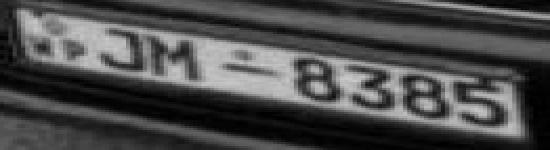-: (221, 58, 282, 80)
3: (345, 61, 401, 112)
5: (452, 78, 510, 128)
8: (286, 55, 345, 105), (397, 72, 452, 120)
J: (97, 24, 149, 74)
M: (147, 32, 208, 83)
P: (58, 38, 92, 63)
W: (27, 34, 55, 58)
